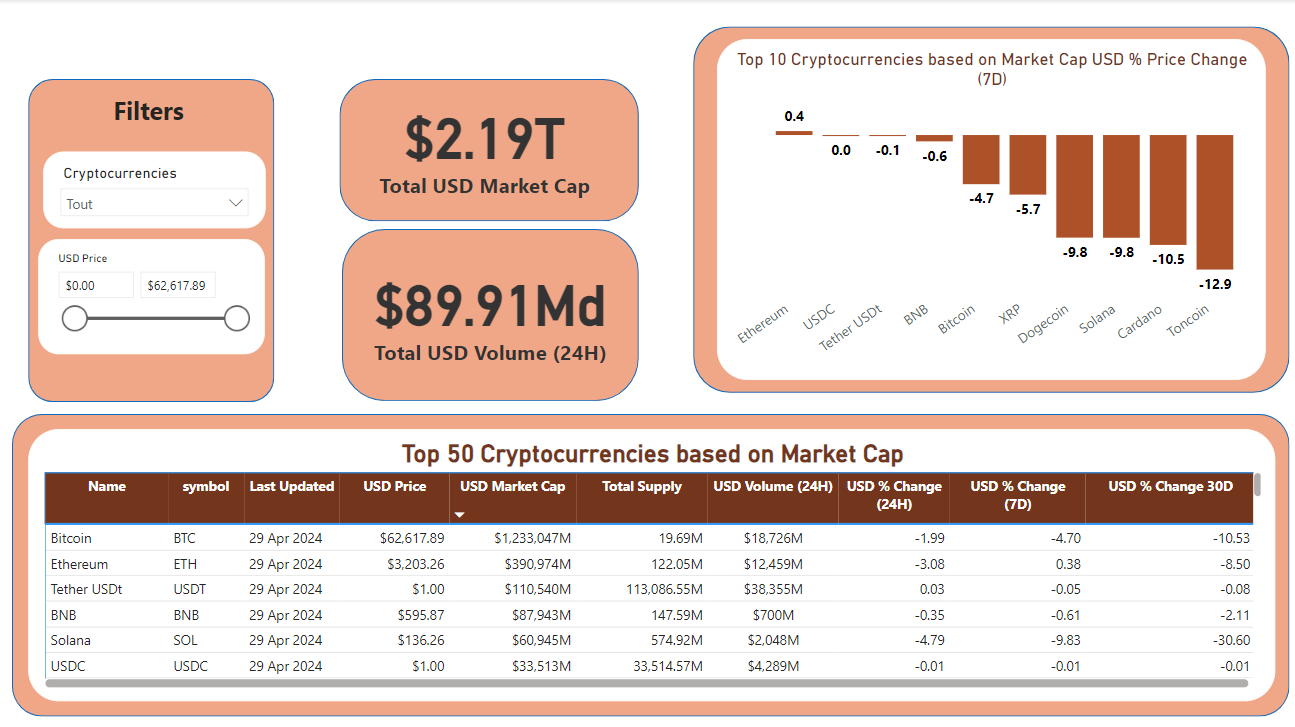

The page's visual inventory and layout, read from the dashboard file:
{"tool":"powerbi","page":{"name":"Page 1","canvas":[1280,720],"ordinal":0},"visuals":[{"type":"shape","box":[334.9,78.3,292.9,139.2],"z":0},{"type":"card","fields":{"Values":["Sum(prod coinmarketcap_clean.usd_market_cap)"]},"box":[350.2,78.2,255.2,129],"z":1000},{"type":"shape","box":[337.2,224.8,290.2,168.4],"z":2000},{"type":"card","fields":{"Values":["Sum(prod coinmarketcap_clean.usd_volume_24h)"]},"box":[352.2,235.2,261.3,143.2],"z":3000},{"type":"shape","box":[14.7,406,1249.7,295.9],"z":4000},{"type":"tableEx","title":"Top 50 Cryptocurrencies based on Market Cap","fields":{"Values":["prod coinmarketcap_clean.name","prod coinmarketcap_clean.symbol","prod coinmarketcap_clean.last_updated","prod coinmarketcap_clean.usd_price","prod coinmarketcap_clean.usd_market_cap","prod coinmarketcap_clean.total_supply","Sum(prod coinmarketcap_clean.usd_volume_24h)","prod coinmarketcap_clean.usd_percent_change_24h","prod coinmarketcap_clean.usd_percent_change_7d","prod coinmarketcap_clean.usd_percent_change_30d"]},"box":[30.6,420.7,1220.4,266.6],"z":5000},{"type":"textbox","box":[81.2,13,362.5,52.2],"z":7000},{"type":"shape","box":[681.1,26.9,583.3,358.3],"z":8000},{"type":"columnChart","title":"Top 10 Cryptocurrencies based on Market Cap USD % Price Change (7D)","fields":{"Category":["prod coinmarketcap_clean.name"],"Y":["Sum(prod coinmarketcap_clean.usd_percent_change_7d)"]},"box":[704.4,39.1,536.8,333.8],"z":9000},{"type":"shape","box":[30.4,78.3,240.7,316.1],"z":10000},{"type":"textbox","box":[108.8,88,86.8,44],"z":11000},{"type":"slicer","fields":{"Values":["prod coinmarketcap_clean.name"]},"box":[44.9,149.3,217.5,75.4],"z":12000},{"type":"slicer","fields":{"Values":["prod coinmarketcap_clean.usd_price"]},"box":[40.6,234.9,221.8,113.1],"z":13000}]}

Visuals, with their boxes in screenshot pixels (x1, y1, x2, y2), scaled from the page's 1280x720 canvas onto the 1295x727 screenshot:
shape: BBox(339, 79, 635, 220)
card - Sum(prod coinmarketcap_clean.usd_market_cap): BBox(354, 79, 612, 209)
shape: BBox(341, 227, 635, 397)
card - Sum(prod coinmarketcap_clean.usd_volume_24h): BBox(356, 237, 621, 382)
shape: BBox(15, 410, 1279, 709)
"Top 50 Cryptocurrencies based on Market Cap" tableEx: BBox(31, 425, 1266, 694)
textbox: BBox(82, 13, 449, 66)
shape: BBox(689, 27, 1279, 389)
"Top 10 Cryptocurrencies based on Market Cap USD % Price Change (7D)" columnChart: BBox(713, 39, 1256, 377)
shape: BBox(31, 79, 274, 398)
textbox: BBox(110, 89, 198, 133)
slicer - prod coinmarketcap_clean.name: BBox(45, 151, 265, 227)
slicer - prod coinmarketcap_clean.usd_price: BBox(41, 237, 265, 351)
